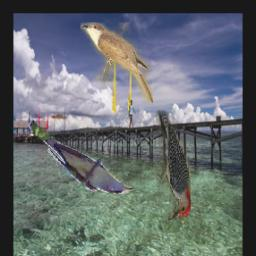Cuckoo: (29, 122, 134, 194), (81, 23, 154, 104)
Woodpecker: (157, 110, 192, 220)
